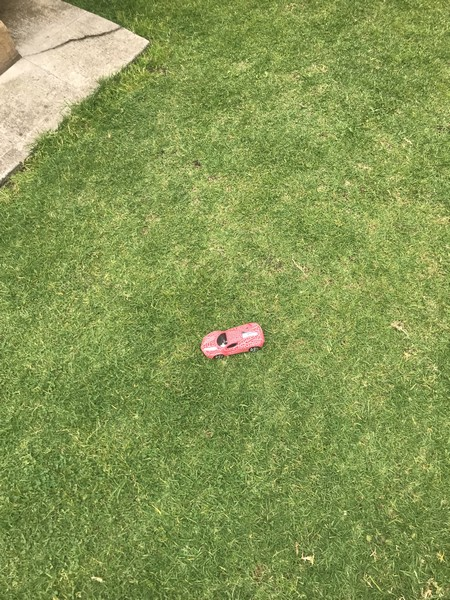RC: (199, 321, 265, 360)
